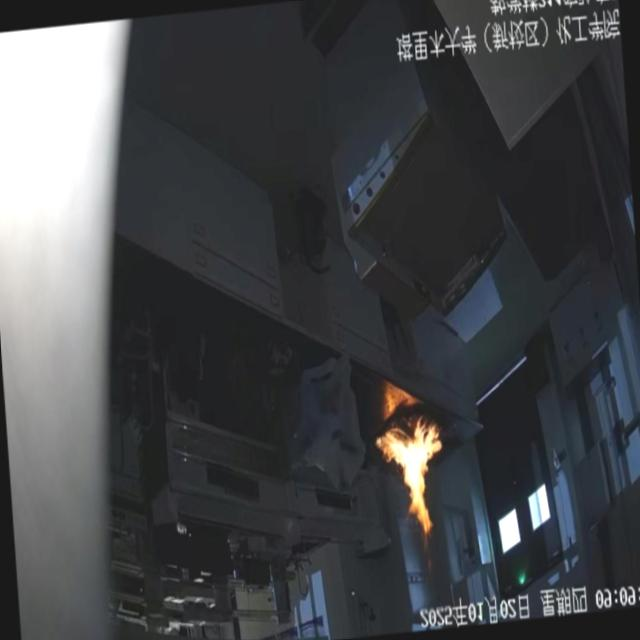fire: (362, 376, 470, 574)
